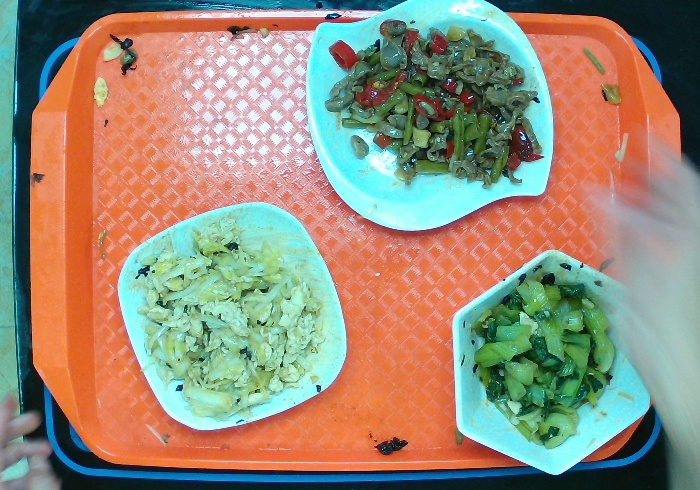RJxy-Liu_Jiao_Wan: (447, 247, 662, 479)
RJxy-Shuang_Jiao_Pan: (301, 1, 561, 234)
RJxy-Si_Fang_Wan: (114, 198, 351, 434)
